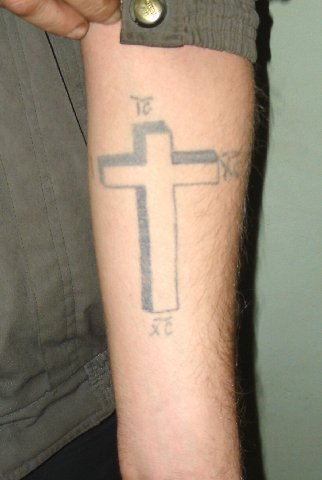tatu9_krest: (96, 115, 224, 322)
